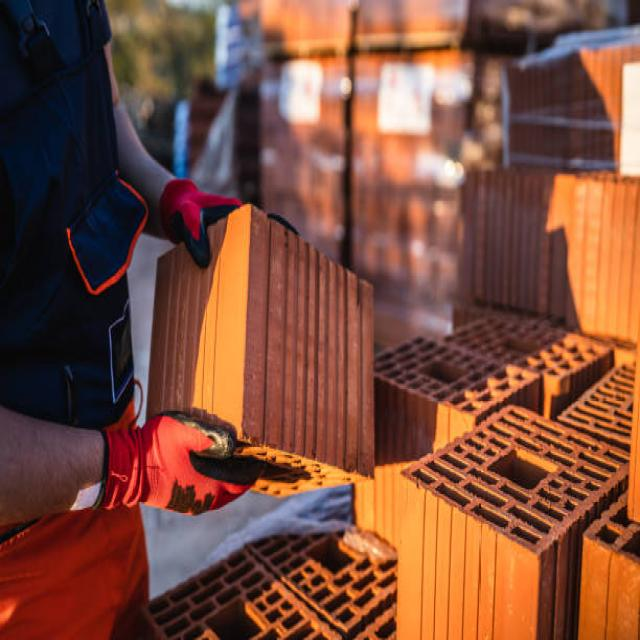Gloves: (95, 396, 259, 520), (136, 170, 310, 278)
